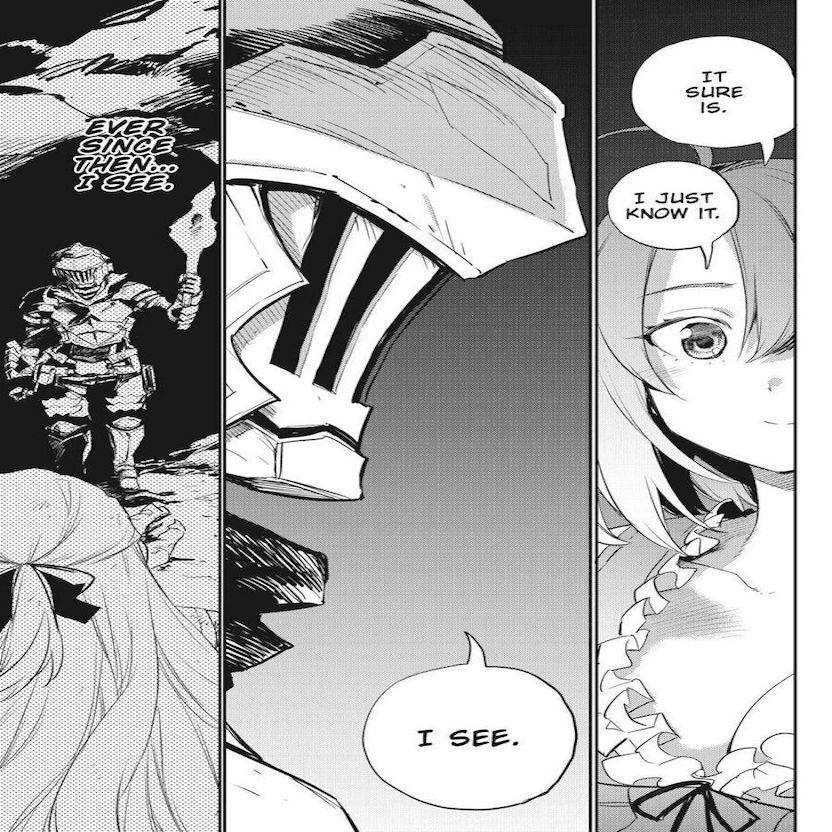Bubble: (359, 661, 580, 814), (628, 33, 800, 152), (604, 159, 743, 252)
